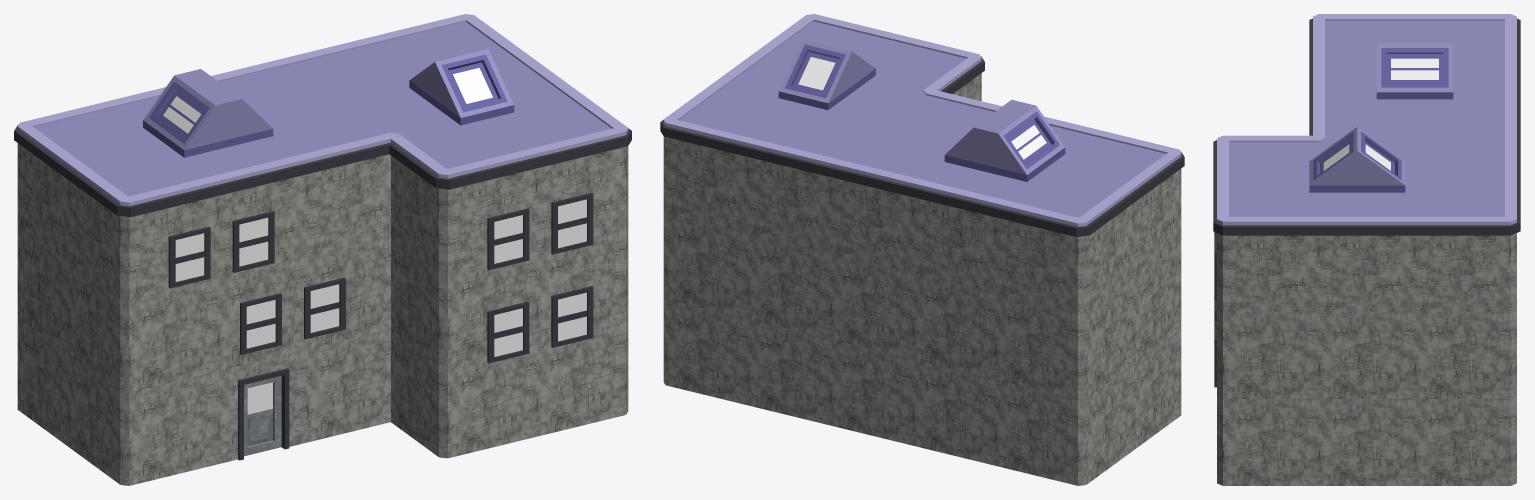
File: Building 1.fbx
3 renders of one model, left to right at view 1: azimuth 30°, elevation 25°; view 2: azimuth 150°, elevation 25°; view 3: azimuth 270°, elevation 25°, orthographic. The views are drawn at different scales.
Parts seen in each view (by area): view 1: mergedBlocks; view 2: mergedBlocks; view 3: mergedBlocks.
Part boxes in pixels (bbox=[...]): mergedBlocks: bbox=[14, 14, 631, 485]; mergedBlocks: bbox=[660, 14, 1184, 485]; mergedBlocks: bbox=[1213, 14, 1520, 485].
Bounding box in the file's own units: 52.05 × 35 × 32.05.
Materials: 8 (3 with a texture image).
